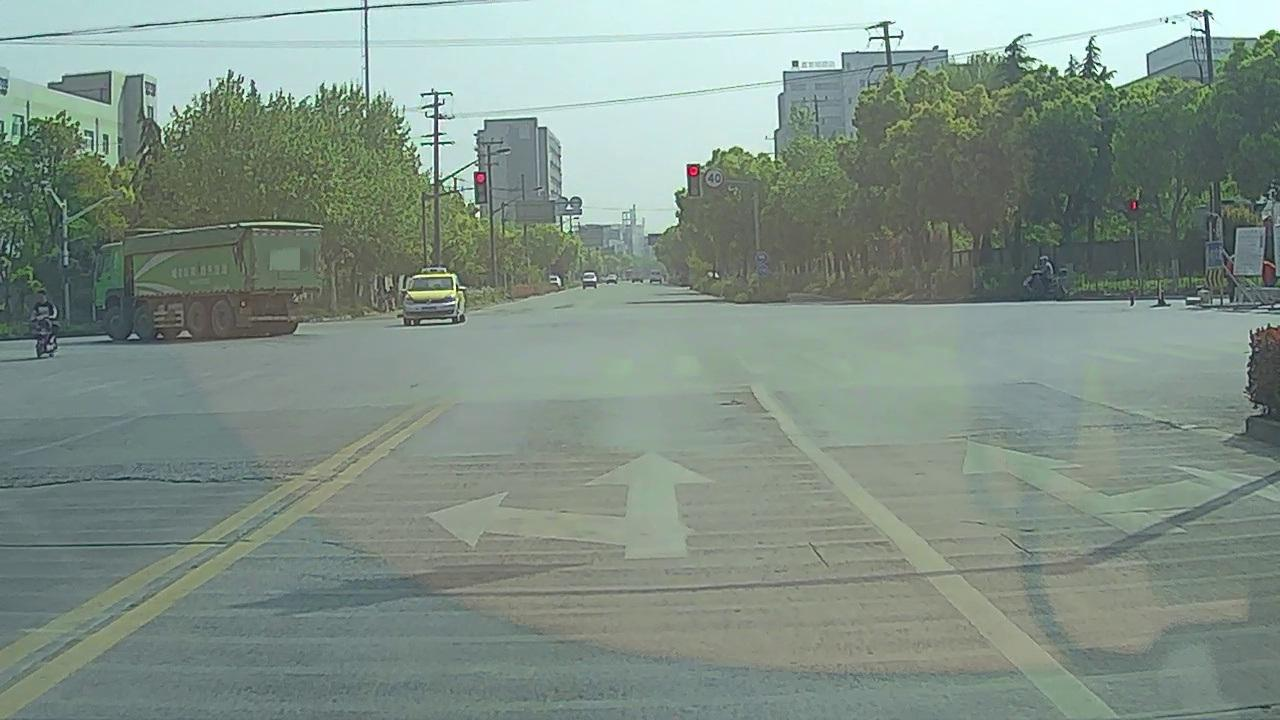traffic_light: (687, 163, 700, 196), (475, 172, 487, 204)
